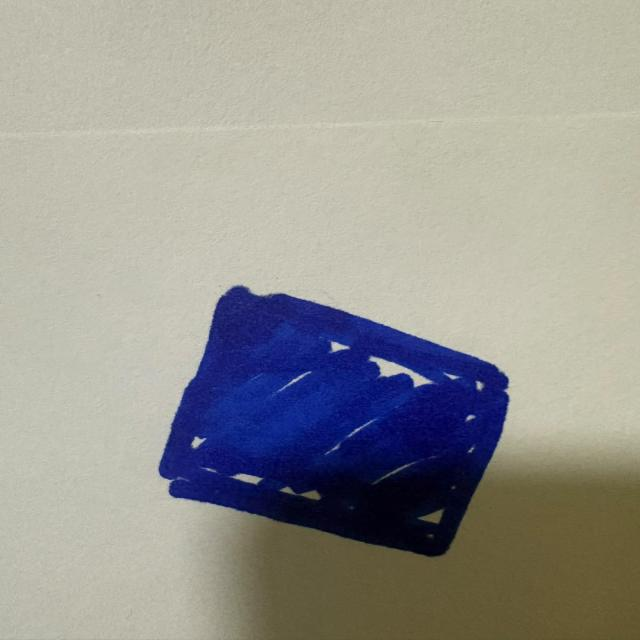Square: (159, 286, 508, 556)
